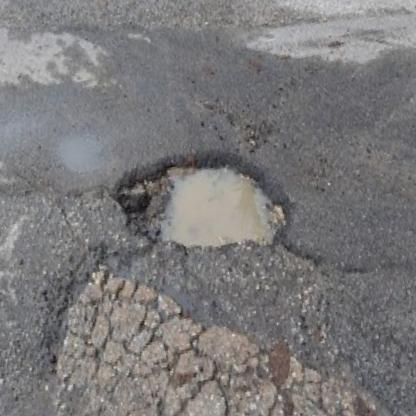pothole: (108, 134, 295, 276)
